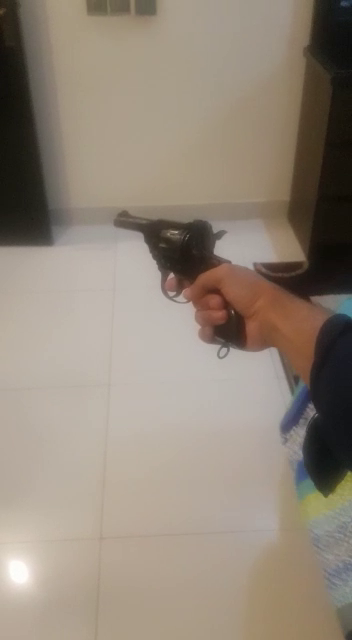handgun: (107, 209, 259, 387)
